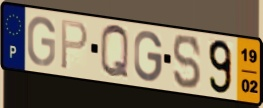9: (206, 38, 235, 97)
G: (133, 29, 165, 84), (26, 15, 57, 69)
P: (60, 18, 90, 72)
Q: (99, 22, 131, 81)
S: (171, 34, 203, 91)
